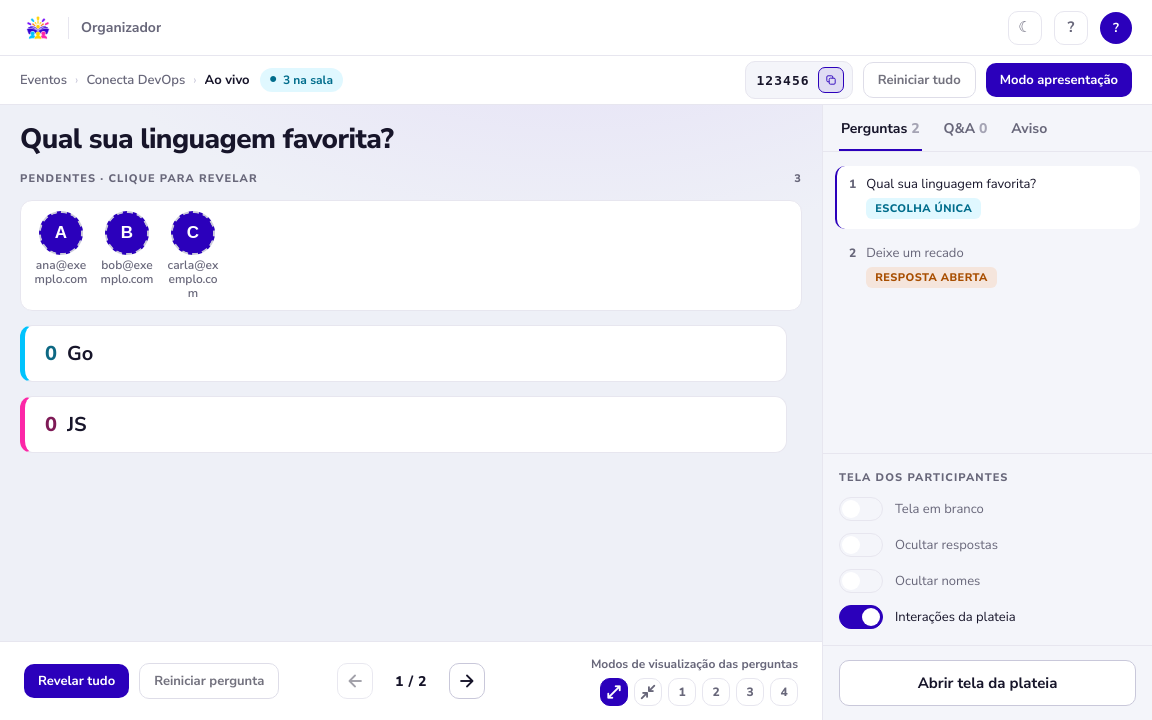
Test case: Preview da apresentação › revela um participante clicando no rosto, movendo para a opção que ele escolheu
The image size is (1152, 720).
Expected: the heading "Qual sua linguagem favorita?" is shown, [20, 120, 393, 158]
Click the button named "Revelar resposta de ana@exemplo.com": (61, 233) [39, 211, 83, 255]
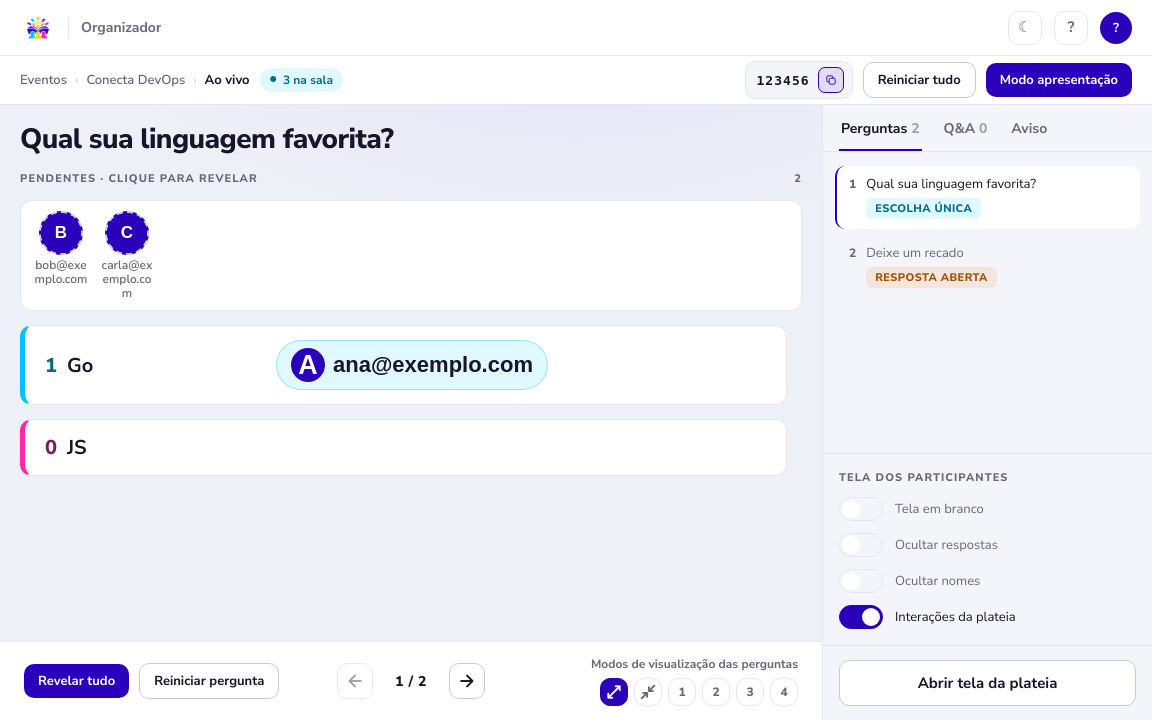
Expected: the button with aria-label "Desrevelar resposta de ana@exemplo.com" is shown, [276, 340, 548, 390]
Expected: the text "1" next to "Go" is shown, [45, 352, 57, 378]
